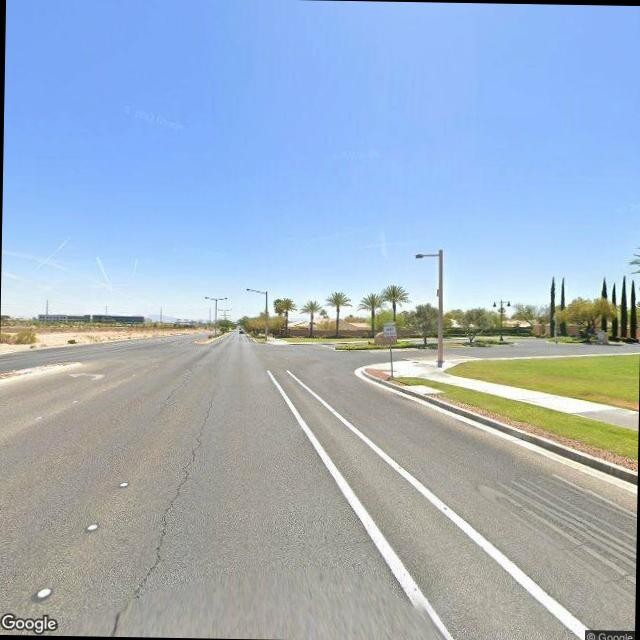pothole: (134, 394, 214, 599), (158, 358, 202, 407)
